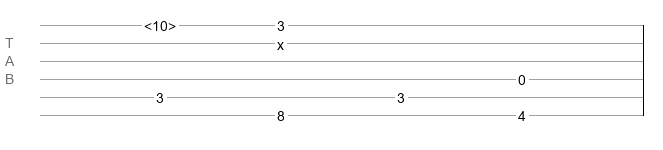0: (518, 72, 526, 82)
3: (156, 90, 164, 100), (277, 18, 285, 28), (397, 90, 405, 100)
4: (518, 108, 526, 118)
8: (277, 108, 285, 118)
harmonic: (144, 18, 176, 28)
x: (277, 37, 284, 45)
